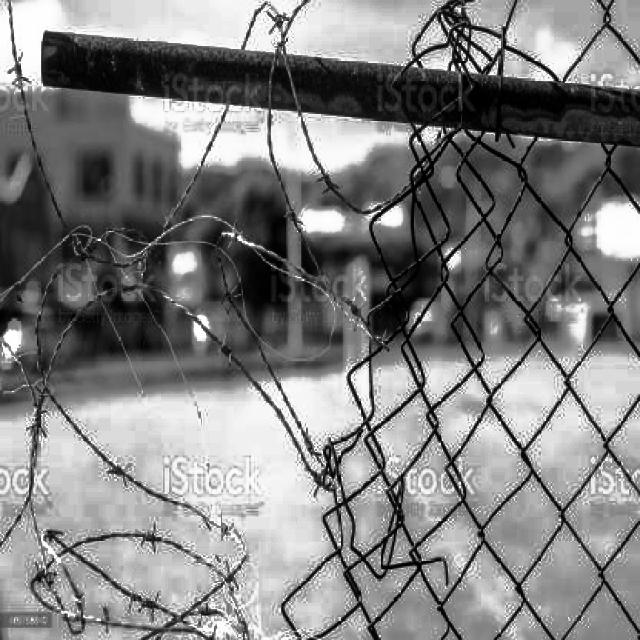anomaly-fence: (4, 2, 483, 630)
